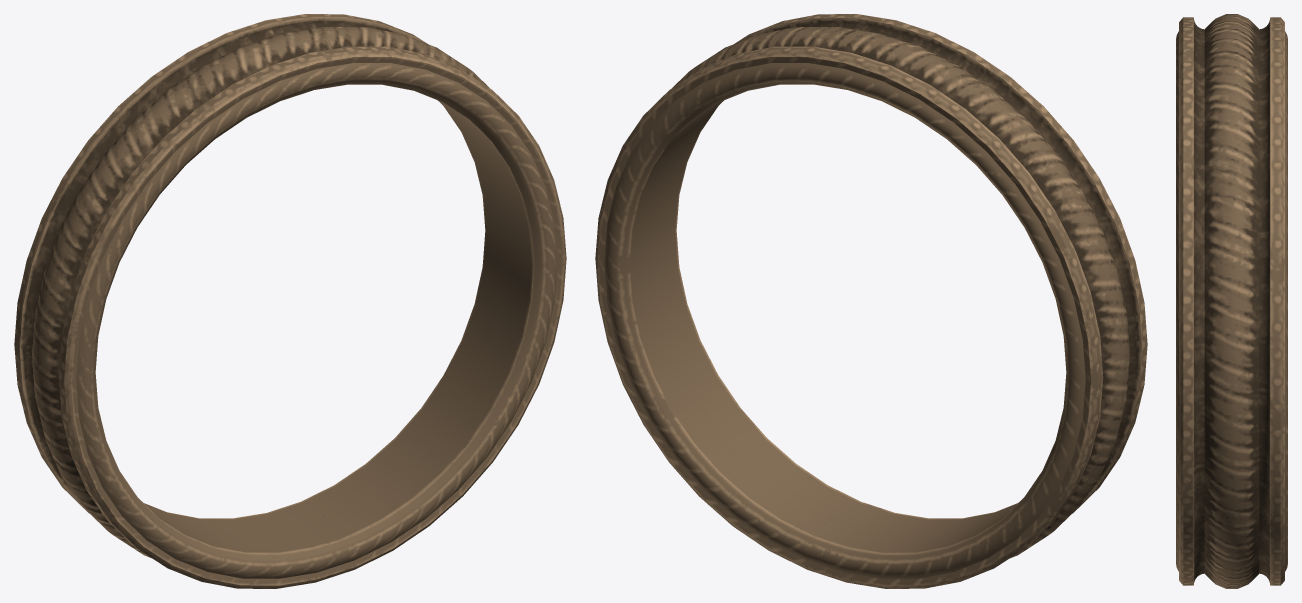
Rendered from bangles.glb.
The picture shows the model from 3 angles, left to right: view 1: azimuth 30°, elevation 25°; view 2: azimuth 150°, elevation 25°; view 3: azimuth 270°, elevation 25°; orthographic projection. The views are drawn at different scales.
Parts seen in each view (by area): view 1: LP; view 2: LP; view 3: LP.
Part boxes in pixels (x1,y1,x2,y2): LP: (14,14,566,588); LP: (595,14,1147,588); LP: (1176,14,1287,588).
Size of the model in its own units: 0.3209 by 0.3209 by 0.0624.
1 material, 1 textured.
